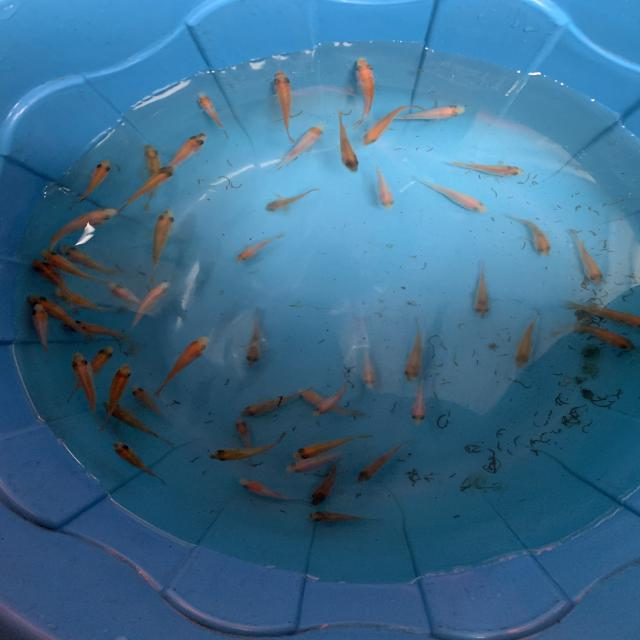nila: (94, 392, 178, 450), (154, 335, 217, 398), (105, 432, 171, 491), (106, 163, 179, 216), (411, 175, 498, 217), (272, 118, 334, 174), (292, 384, 369, 428), (124, 281, 183, 338), (66, 342, 118, 404), (266, 69, 307, 147), (327, 107, 369, 180), (36, 243, 114, 282), (567, 225, 613, 290), (227, 382, 314, 416), (564, 318, 636, 359), (38, 290, 92, 344), (286, 430, 368, 465), (234, 473, 294, 520), (363, 101, 421, 149), (94, 362, 142, 420), (50, 204, 119, 244), (142, 205, 182, 274), (66, 346, 102, 422), (207, 434, 295, 465), (348, 439, 407, 485), (507, 310, 546, 378), (442, 156, 532, 184), (306, 456, 352, 510), (229, 227, 294, 265), (50, 280, 117, 316), (105, 274, 161, 317), (194, 88, 236, 144), (506, 213, 558, 258), (256, 184, 326, 217), (32, 253, 84, 297), (61, 240, 127, 274), (348, 58, 378, 132), (571, 300, 640, 332), (278, 448, 354, 477), (72, 155, 116, 205), (390, 101, 472, 127), (128, 379, 176, 423), (239, 308, 270, 376), (304, 377, 354, 419), (164, 128, 211, 172), (65, 315, 128, 347), (139, 138, 164, 214), (367, 160, 403, 212), (399, 322, 428, 386), (406, 368, 437, 427), (224, 416, 261, 464), (469, 262, 496, 322), (359, 332, 381, 396), (29, 300, 50, 363), (304, 509, 376, 523)
